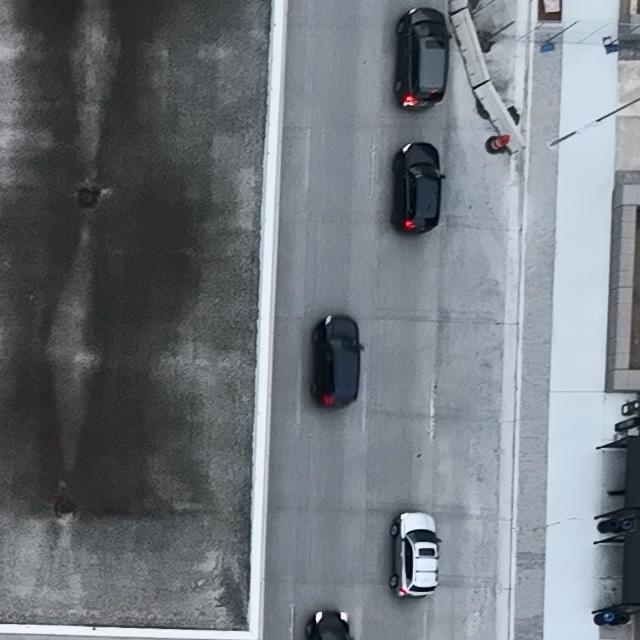car: (395, 6, 453, 109), (391, 140, 448, 233), (310, 314, 364, 410), (388, 512, 442, 600), (303, 611, 354, 640)
